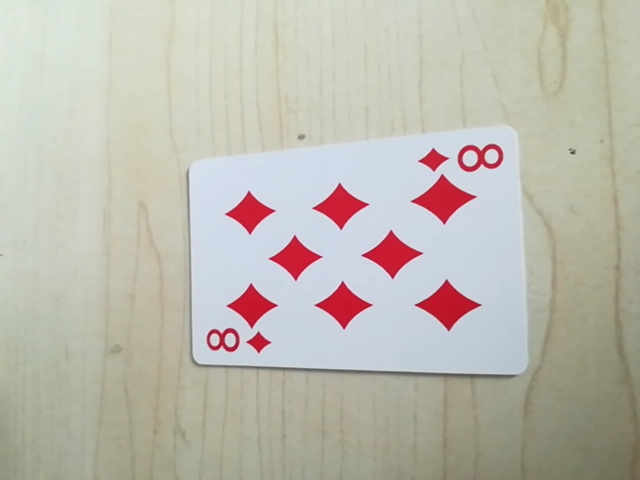fk 8: (415, 136, 507, 179), (201, 325, 273, 362)
